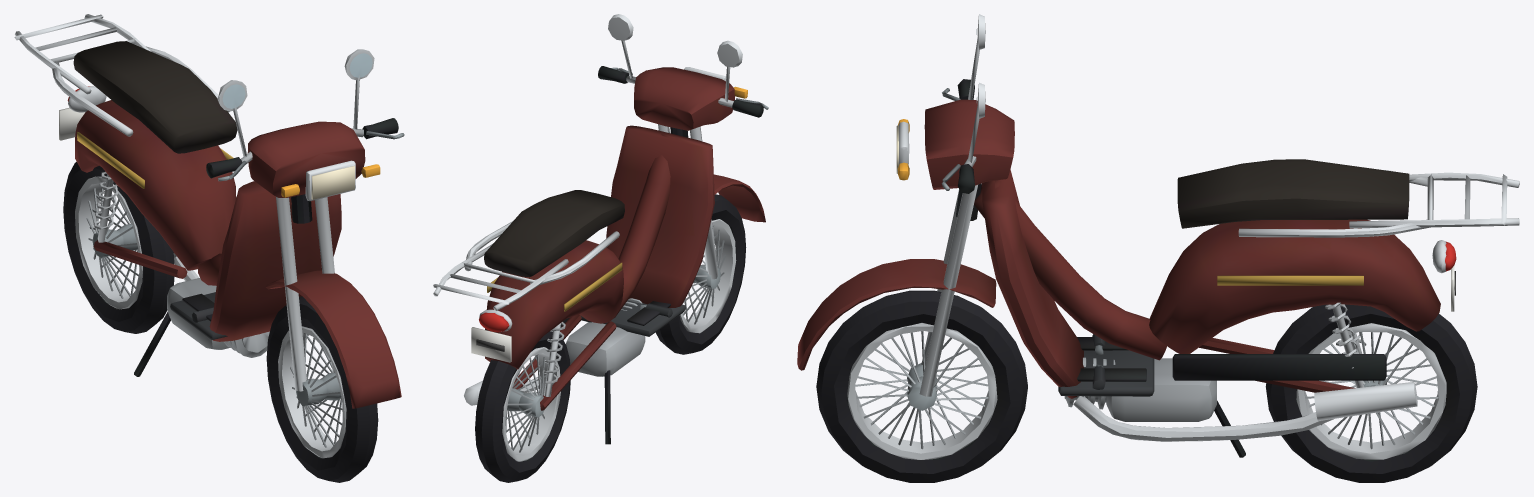
File: veh-dream.glb
3 renders of one model, left to right at view 1: azimuth 30°, elevation 25°; view 2: azimuth 150°, elevation 25°; view 3: azimuth 270°, elevation 25°, orthographic. The views are drawn at different scales.
Visible parts, largest first — view 1: body, wheel0, wheel1; view 2: body, wheel1, wheel0; view 3: body, wheel0, wheel1.
Boxes of the visible parts, x1,y1,x2,y2 form: body: (14, 14, 404, 408); wheel0: (266, 296, 378, 482); wheel1: (63, 162, 174, 333); body: (433, 14, 768, 444); wheel1: (475, 331, 570, 482); wheel0: (655, 194, 746, 354); body: (797, 14, 1519, 457); wheel0: (816, 290, 1027, 482); wheel1: (1265, 304, 1477, 482).
Size of the model in its own units: 0.65 by 1.29 by 1.96.
